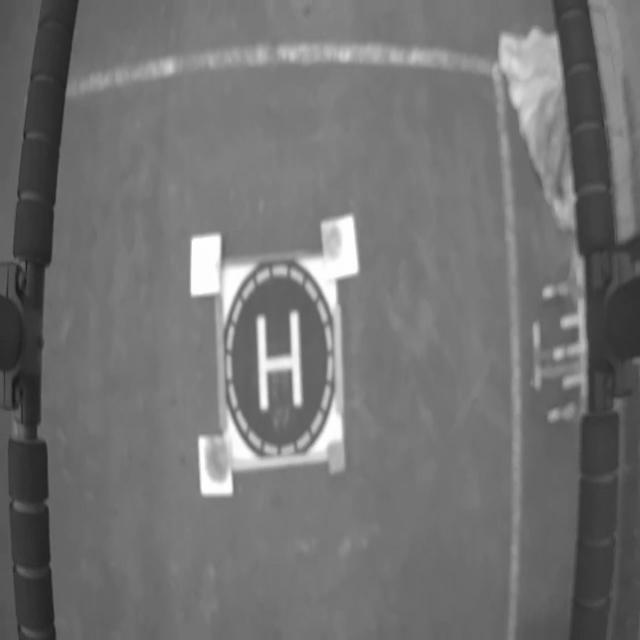Helipad: (257, 307, 303, 411)
